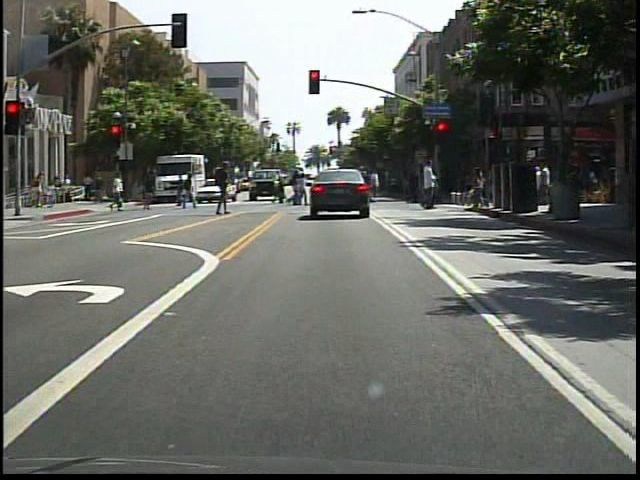person: (415, 158, 445, 213), (209, 162, 237, 219), (332, 167, 354, 216), (109, 171, 128, 217), (180, 171, 201, 212), (173, 171, 187, 212)
